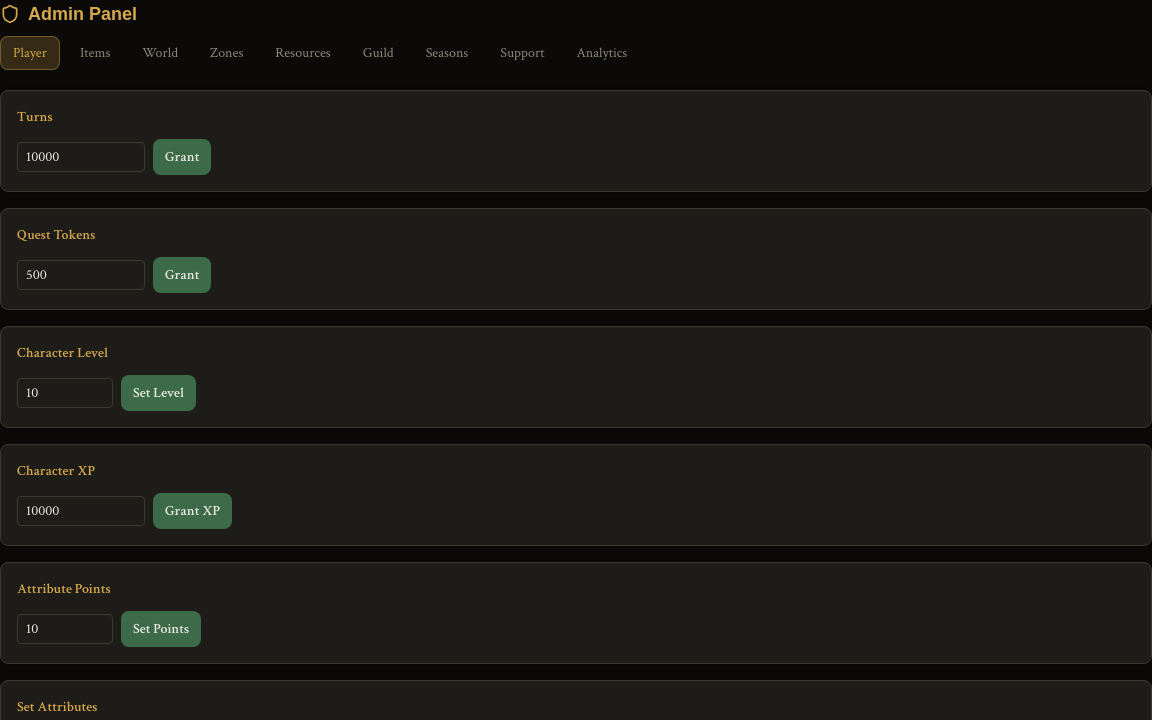
Test: AdminScreen seasons tab › loads season rows from adminGetSeasons
Click the button "Seasons" at (447, 53), box [414, 36, 480, 70]
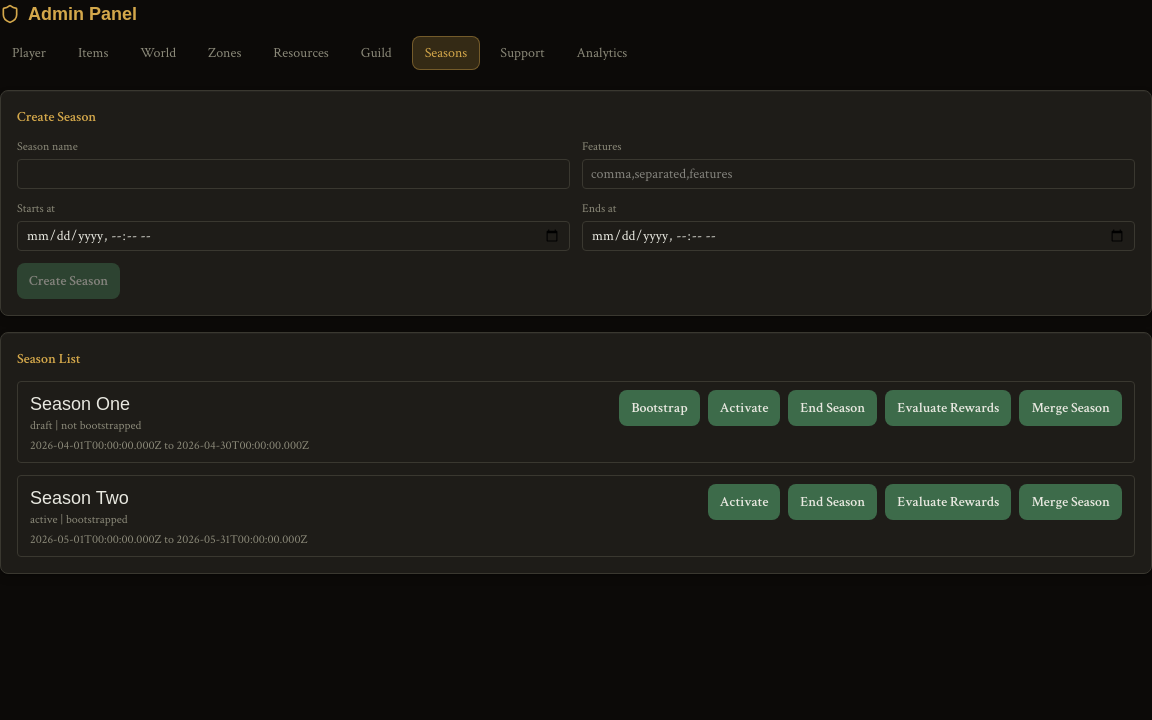
Now the heading "Create Season" is shown, box [17, 108, 96, 126]
Now the text "Season One" is shown, box [30, 394, 130, 414]
Now the text "Season Two" is shown, box [30, 488, 129, 508]
